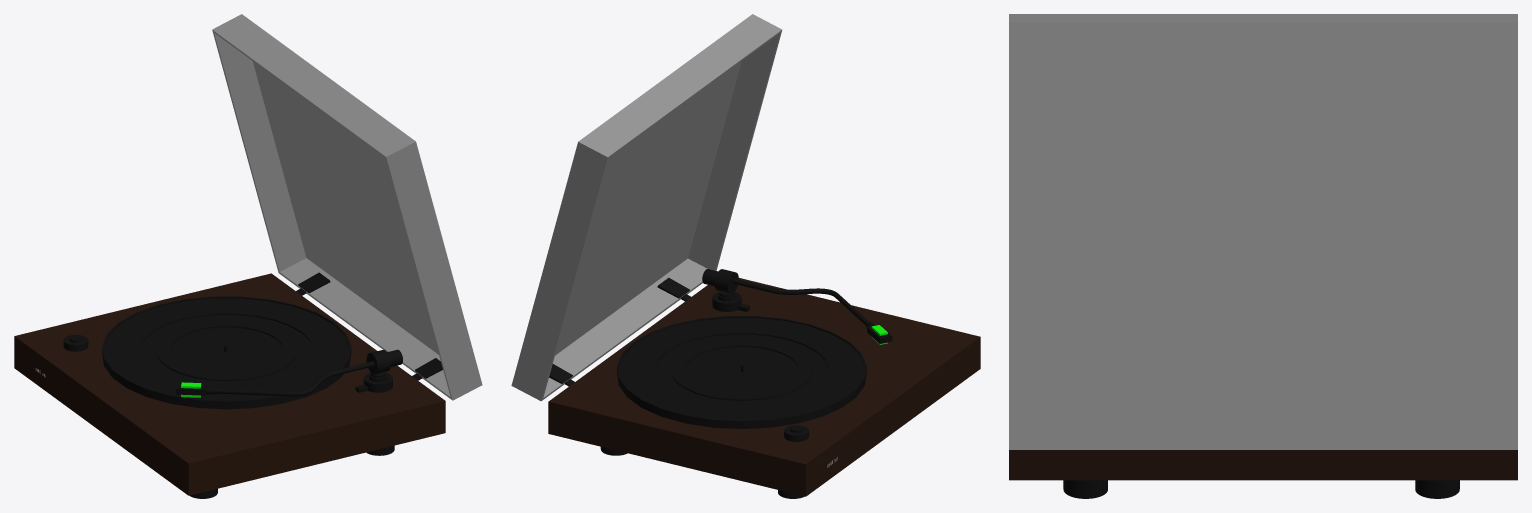
The model's file is Record player.obj.
The picture shows the model from 3 angles, left to right: view 1: azimuth 30°, elevation 25°; view 2: azimuth 150°, elevation 25°; view 3: azimuth 270°, elevation 25°; orthographic projection. The views are drawn at different scales.
Parts seen in each view (by area): view 1: Box20196, Box20189, Cylinder022, Line003; view 2: Box20196, Box20189, Cylinder022, Line003; view 3: Box20196, Box20189, Cylinder019, Cylinder018.
Boxes of the visible parts, bbox=[...] form: Box20196: bbox=[212, 14, 482, 400]; Box20189: bbox=[14, 273, 445, 495]; Cylinder022: bbox=[102, 296, 351, 409]; Line003: bbox=[217, 361, 374, 396]; Box20196: bbox=[511, 14, 782, 401]; Box20189: bbox=[548, 278, 980, 496]; Cylinder022: bbox=[617, 316, 866, 428]; Line003: bbox=[733, 278, 868, 324]; Box20196: bbox=[1009, 14, 1517, 449]; Box20189: bbox=[1009, 450, 1517, 480]; Cylinder019: bbox=[1063, 480, 1107, 498]; Cylinder018: bbox=[1415, 480, 1459, 498].
Size of the model in its own units: 1240 by 1307 by 1272.
